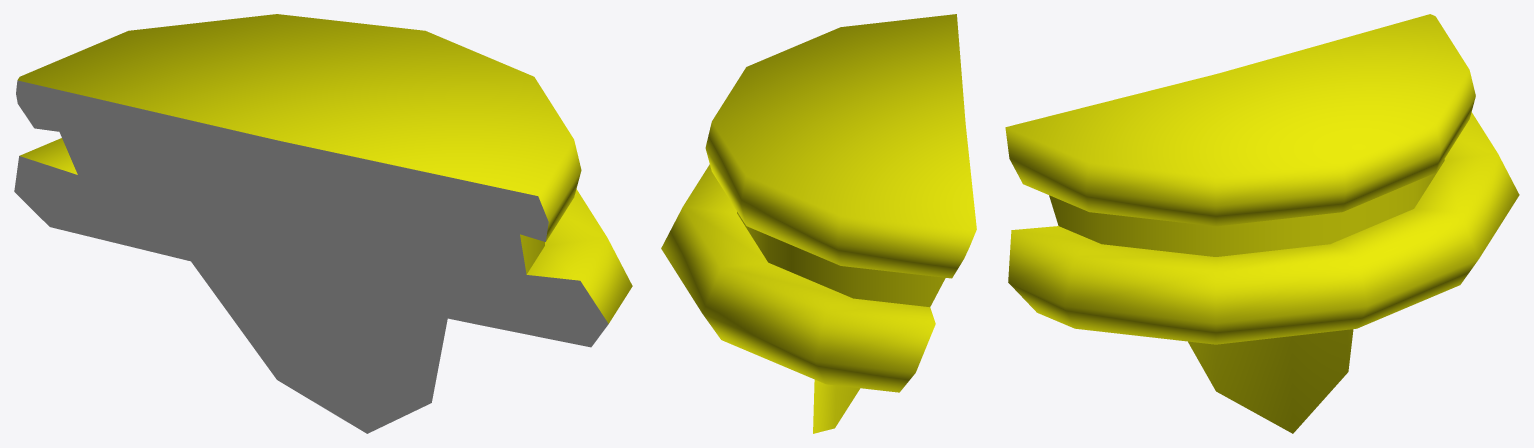
The model's file is mdl_ciudadela_casa_pilar1_fracturepart11.fbx.
The picture shows the model from 3 angles, left to right: view 1: azimuth 30°, elevation 25°; view 2: azimuth 150°, elevation 25°; view 3: azimuth 270°, elevation 25°; orthographic projection. The views are drawn at different scales.
Parts seen in each view (by area): view 1: mdl_ciudadela_casa_pilar1_fracturepart11; view 2: mdl_ciudadela_casa_pilar1_fracturepart11; view 3: mdl_ciudadela_casa_pilar1_fracturepart11.
Boxes of the visible parts, x1,y1,x2,y2 form: mdl_ciudadela_casa_pilar1_fracturepart11: (14, 14, 632, 433); mdl_ciudadela_casa_pilar1_fracturepart11: (661, 14, 976, 433); mdl_ciudadela_casa_pilar1_fracturepart11: (1005, 14, 1519, 433).
Size of the model in its own units: 0.9502 by 0.7403 by 1.12.
